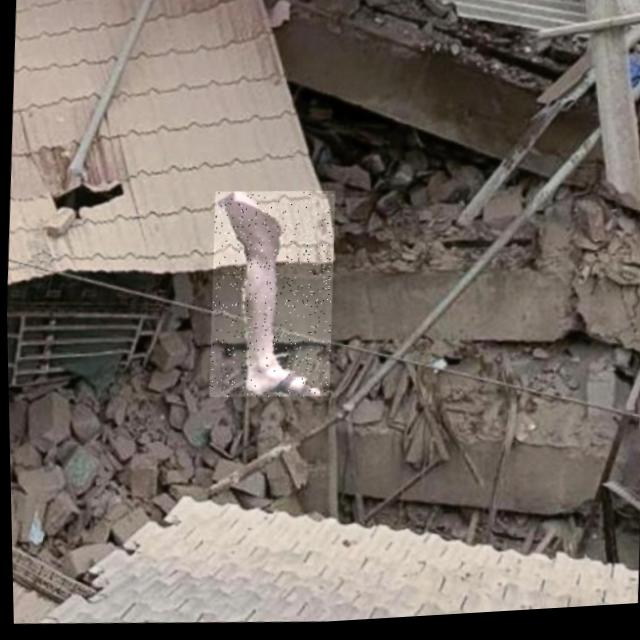Person in Rubble: (204, 189, 338, 406)
